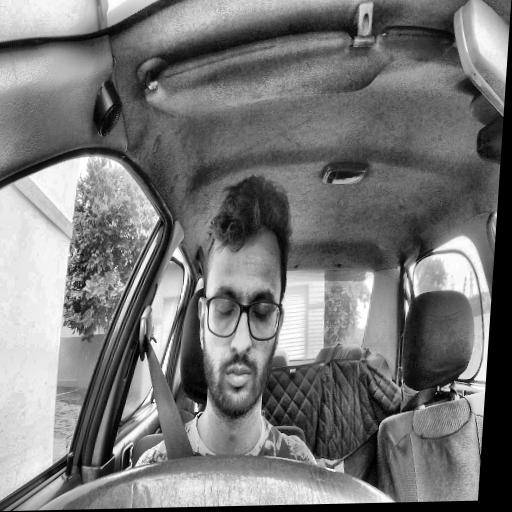drowsy: (190, 176, 295, 421)
